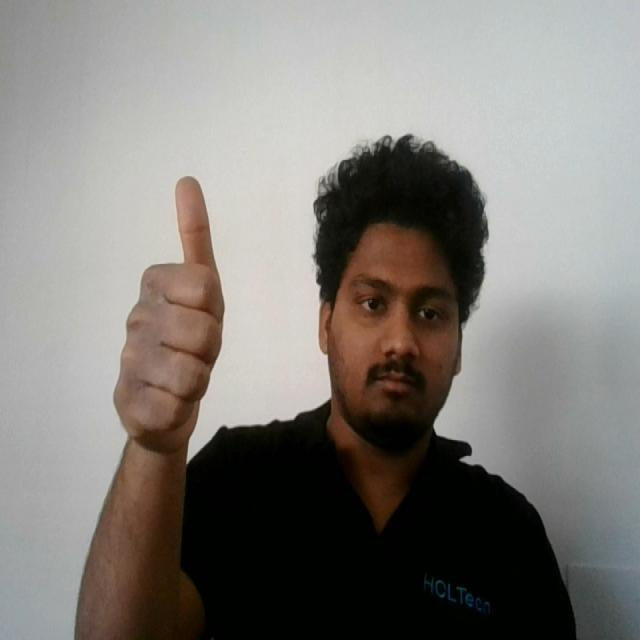Yes: (102, 168, 230, 463)
